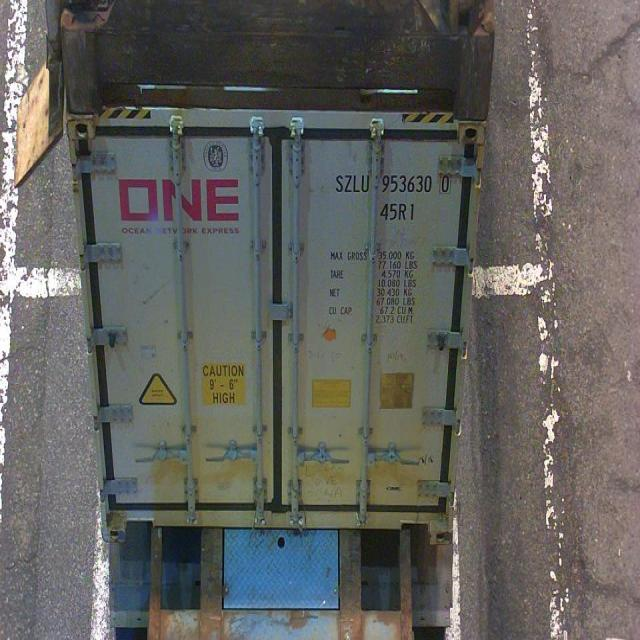ISO: (379, 200, 419, 222)
container_number: (334, 175, 454, 198)
